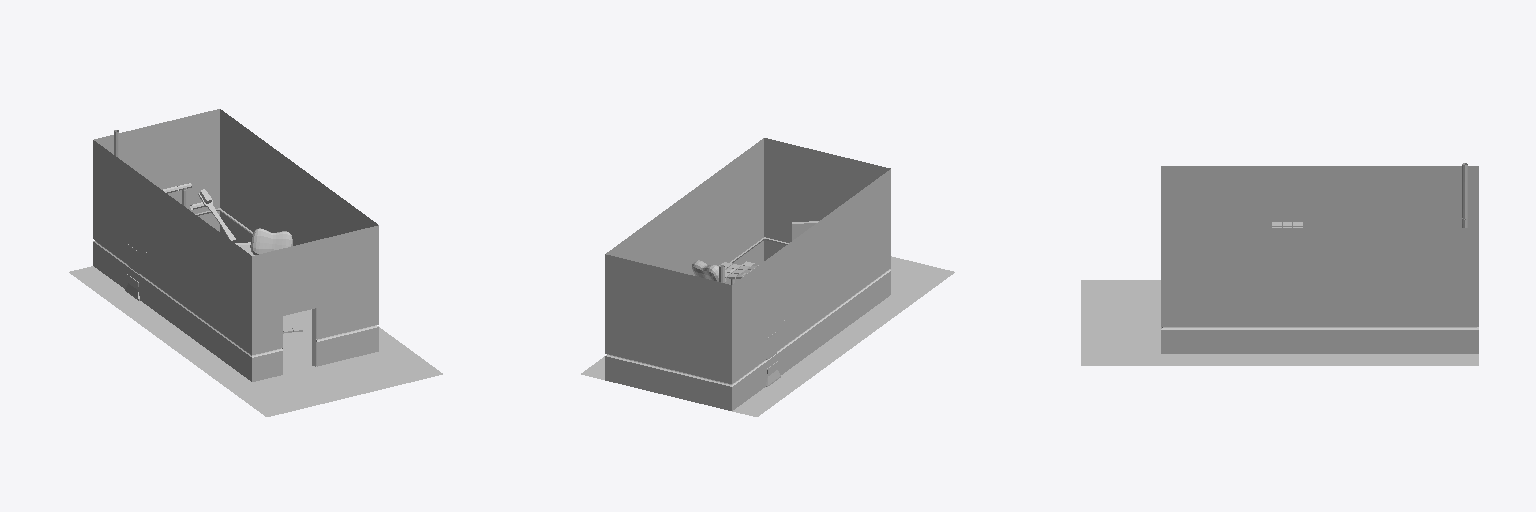
Rendered from level_v3.obj.
The picture shows the model from 3 angles: view 1: azimuth 30°, elevation 25°; view 2: azimuth 150°, elevation 25°; view 3: azimuth 270°, elevation 25°; orthographic projection.
Visible parts, largest first — view 1: Cube.013; view 2: Cube.013; view 3: Cube.013.
Boxes of the visible parts, x1,y1,x2,y2 form: Cube.013: [69, 109, 442, 416]; Cube.013: [581, 138, 954, 416]; Cube.013: [1081, 163, 1478, 365].
Bounding box in the file's own units: 42.52 × 31.65 × 82.67.